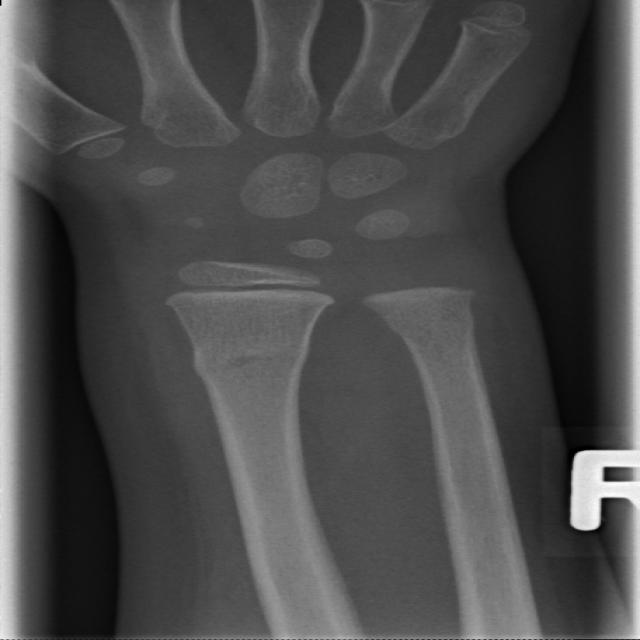radius fracture: (163, 311, 363, 468)
